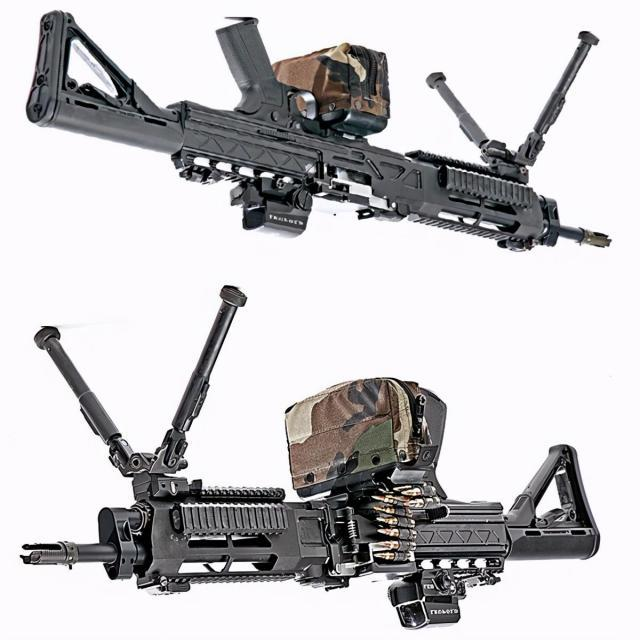weapon: (19, 282, 603, 632), (25, 9, 612, 258)
